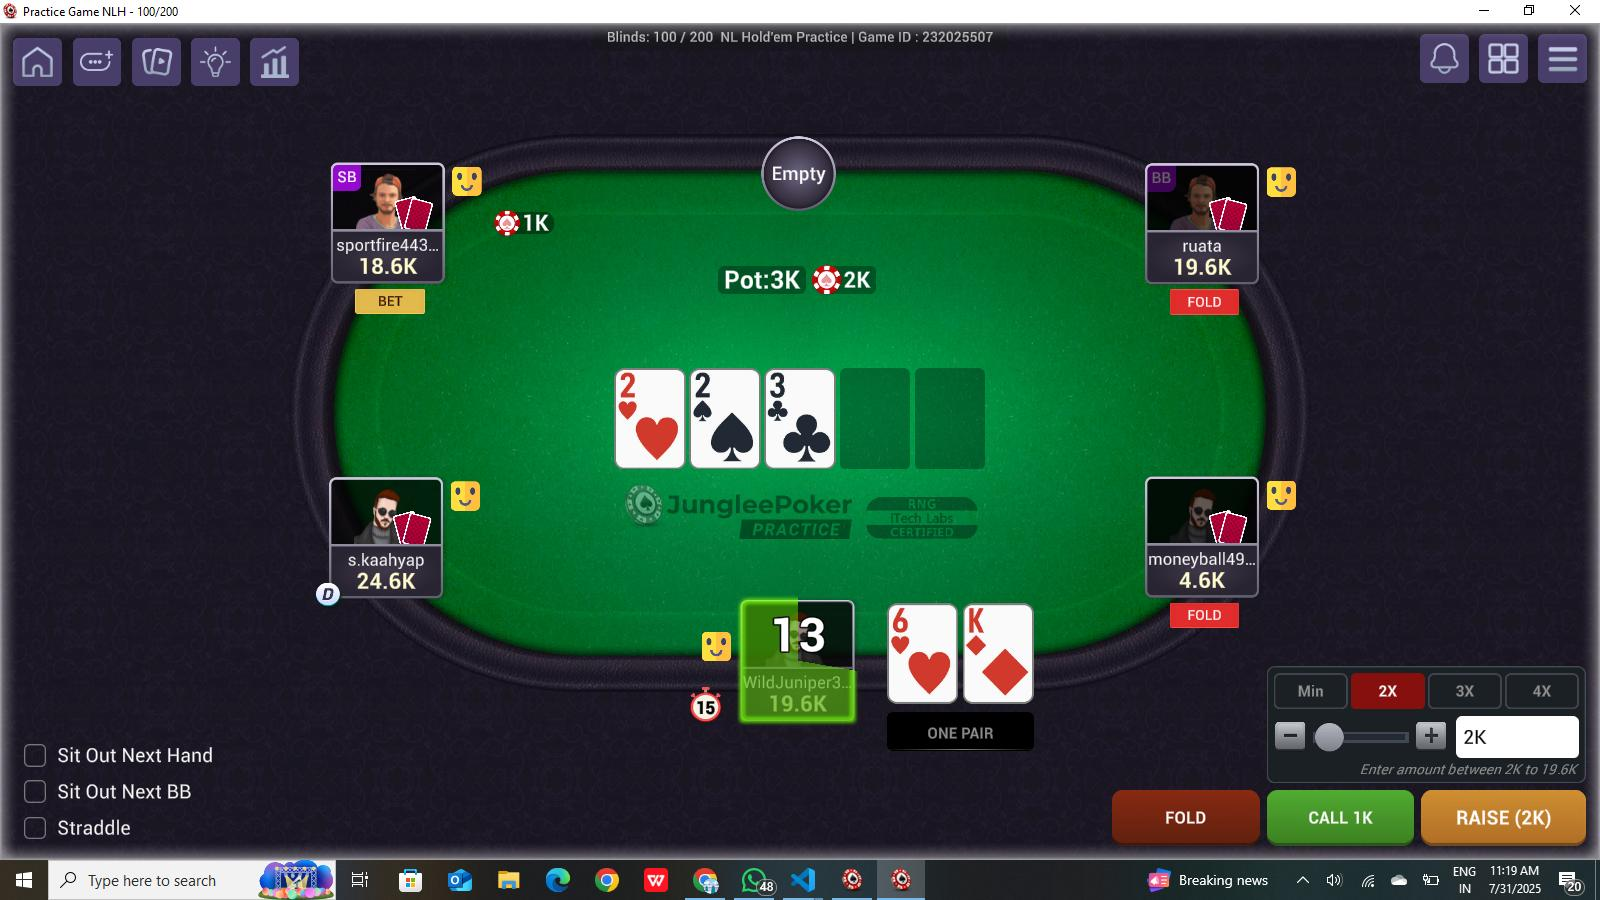button_call: (1271, 787, 1416, 846)
button_fold: (1108, 789, 1260, 847)
button_raise: (1420, 791, 1585, 848)
card1_rank: (886, 603, 955, 639)
card1_suite_heart: (908, 635, 963, 704)
card2_rank: (966, 603, 1028, 640)
card2_suite_diamond: (976, 639, 1033, 702)
flop1_rank: (616, 369, 663, 406)
flop1_suite_heart: (632, 405, 684, 470)
flop2_rank: (694, 367, 740, 407)
flop2_suite_spades: (704, 407, 757, 466)
flop3_rank: (764, 371, 823, 403)
flop3_suite_club: (782, 401, 837, 463)
game_id: (848, 25, 997, 48)
iinput_field: (1458, 715, 1580, 758)
my_stack: (746, 683, 855, 720)
position_BB: (1144, 163, 1180, 196)
position_SB: (332, 165, 365, 188)
total_pot: (718, 265, 879, 300)
villian1_name: (334, 546, 444, 572)
villian1_stack: (332, 563, 451, 599)
villian2_bet: (490, 207, 557, 240)
villian2_name: (332, 234, 443, 260)
villian2_stack: (332, 258, 449, 287)
villian4_name: (1146, 231, 1259, 256)
villian4_stack: (1148, 251, 1256, 280)
villian5_name: (1150, 543, 1260, 574)
villian5_stack: (1152, 563, 1256, 599)
